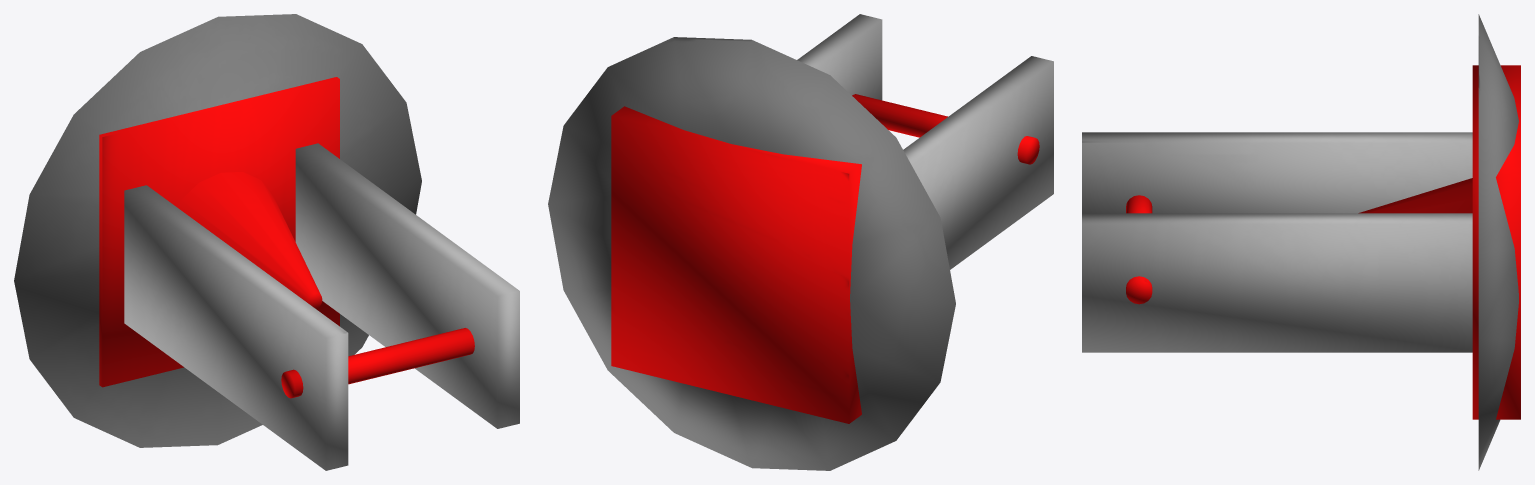
Rendered from radar.fbx.
The picture shows the model from 3 angles, left to right: view 1: azimuth 30°, elevation 25°; view 2: azimuth 150°, elevation 25°; view 3: azimuth 270°, elevation 25°; orthographic projection. The views are drawn at different scales.
Parts seen in each view (by area): view 1: Cube, Cylinder; view 2: Cube, Cylinder; view 3: Cube, Cylinder.
Boxes of the visible parts, x1,y1,x2,y2 form: Cube: (99, 77, 519, 470); Cylinder: (14, 14, 421, 447); Cube: (611, 14, 1053, 423); Cylinder: (548, 37, 955, 470); Cube: (1082, 65, 1520, 419); Cylinder: (1358, 14, 1518, 470).
Bounding box in the file's own units: 3.41 × 3.42 × 3.28.
Materials: 2 (2 with a texture image).
